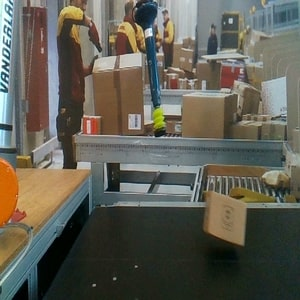box: (202, 190, 249, 248)
